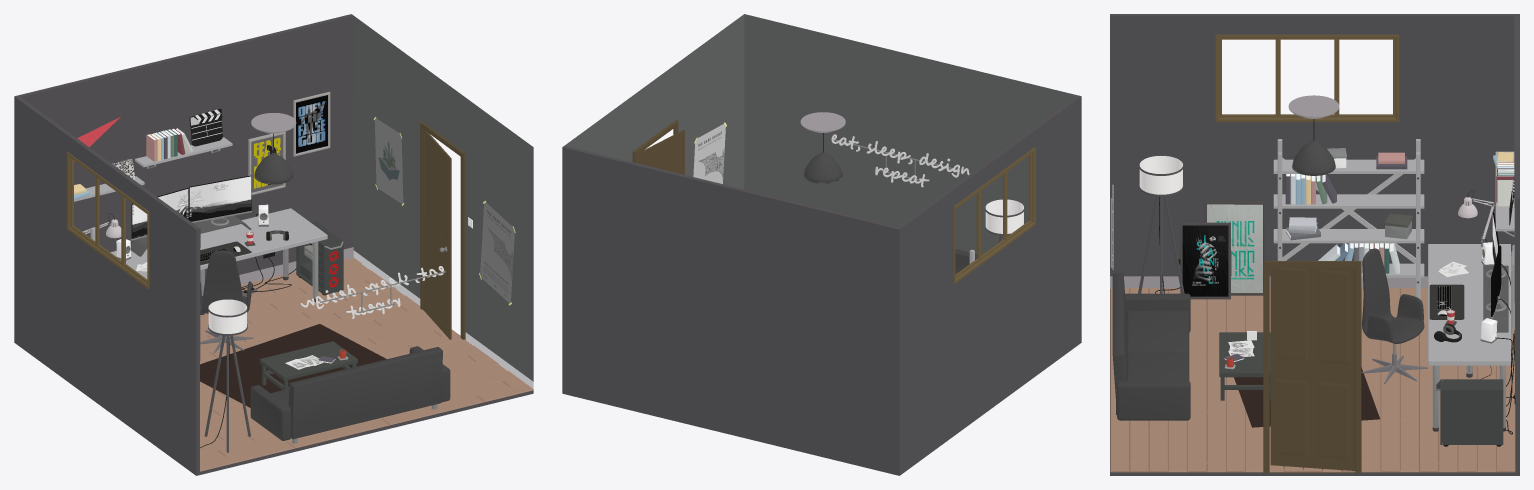
File: base-do-mestre.glb
3 renders of one model, left to right at view 1: azimuth 30°, elevation 25°; view 2: azimuth 150°, elevation 25°; view 3: azimuth 270°, elevation 25°, orthographic. The views are drawn at different scales.
Parts seen in each view (by area): view 1: Object_5, Object_50, Object_28, Object_3, Object_83, Object_4, Object_32, Object_44, Object_31, Object_36, Object_16, Object_98 (+7 smaller); view 2: Object_5, Object_50, Object_32, Object_34, Object_30, Object_99; view 3: Object_5, Object_28, Object_83, Object_4, Object_3, Object_25, Object_26, Object_30, Object_98, Object_87, Object_99, Object_16 (+4 smaller).
Boxes of the visible parts, bbox=[...] form: Object_5: bbox=[14, 14, 533, 475]; Object_50: bbox=[353, 16, 533, 388]; Object_28: bbox=[200, 257, 533, 471]; Object_3: bbox=[200, 324, 386, 407]; Object_83: bbox=[74, 137, 327, 278]; Object_4: bbox=[130, 215, 343, 294]; Object_32: bbox=[480, 202, 514, 303]; Object_44: bbox=[189, 176, 251, 221]; Object_31: bbox=[374, 118, 403, 203]; Object_36: bbox=[296, 95, 327, 153]; Object_16: bbox=[116, 117, 447, 443]; Object_98: bbox=[108, 219, 250, 452]; Object_5: bbox=[562, 95, 1081, 475]; Object_50: bbox=[565, 14, 1076, 255]; Object_32: bbox=[693, 123, 725, 183]; Object_34: bbox=[831, 134, 969, 187]; Object_30: bbox=[985, 199, 1023, 233]; Object_99: bbox=[803, 152, 842, 183]; Object_5: bbox=[1110, 14, 1519, 475]; Object_28: bbox=[1110, 288, 1515, 472]; Object_83: bbox=[1273, 139, 1514, 365]; Object_4: bbox=[1279, 177, 1508, 444]; Object_3: bbox=[1219, 332, 1379, 427]; Object_25: bbox=[1182, 225, 1228, 296]; Object_26: bbox=[1207, 204, 1262, 292]; Object_30: bbox=[1139, 156, 1182, 194]; Object_98: bbox=[1138, 155, 1494, 293]; Object_87: bbox=[1180, 201, 1265, 299]; Object_99: bbox=[1292, 140, 1468, 205]; Object_16: bbox=[1110, 178, 1514, 420].
Size of the model in its own units: 4.39 by 3.05 by 4.09.
Materials: 46 (46 with a texture image).
